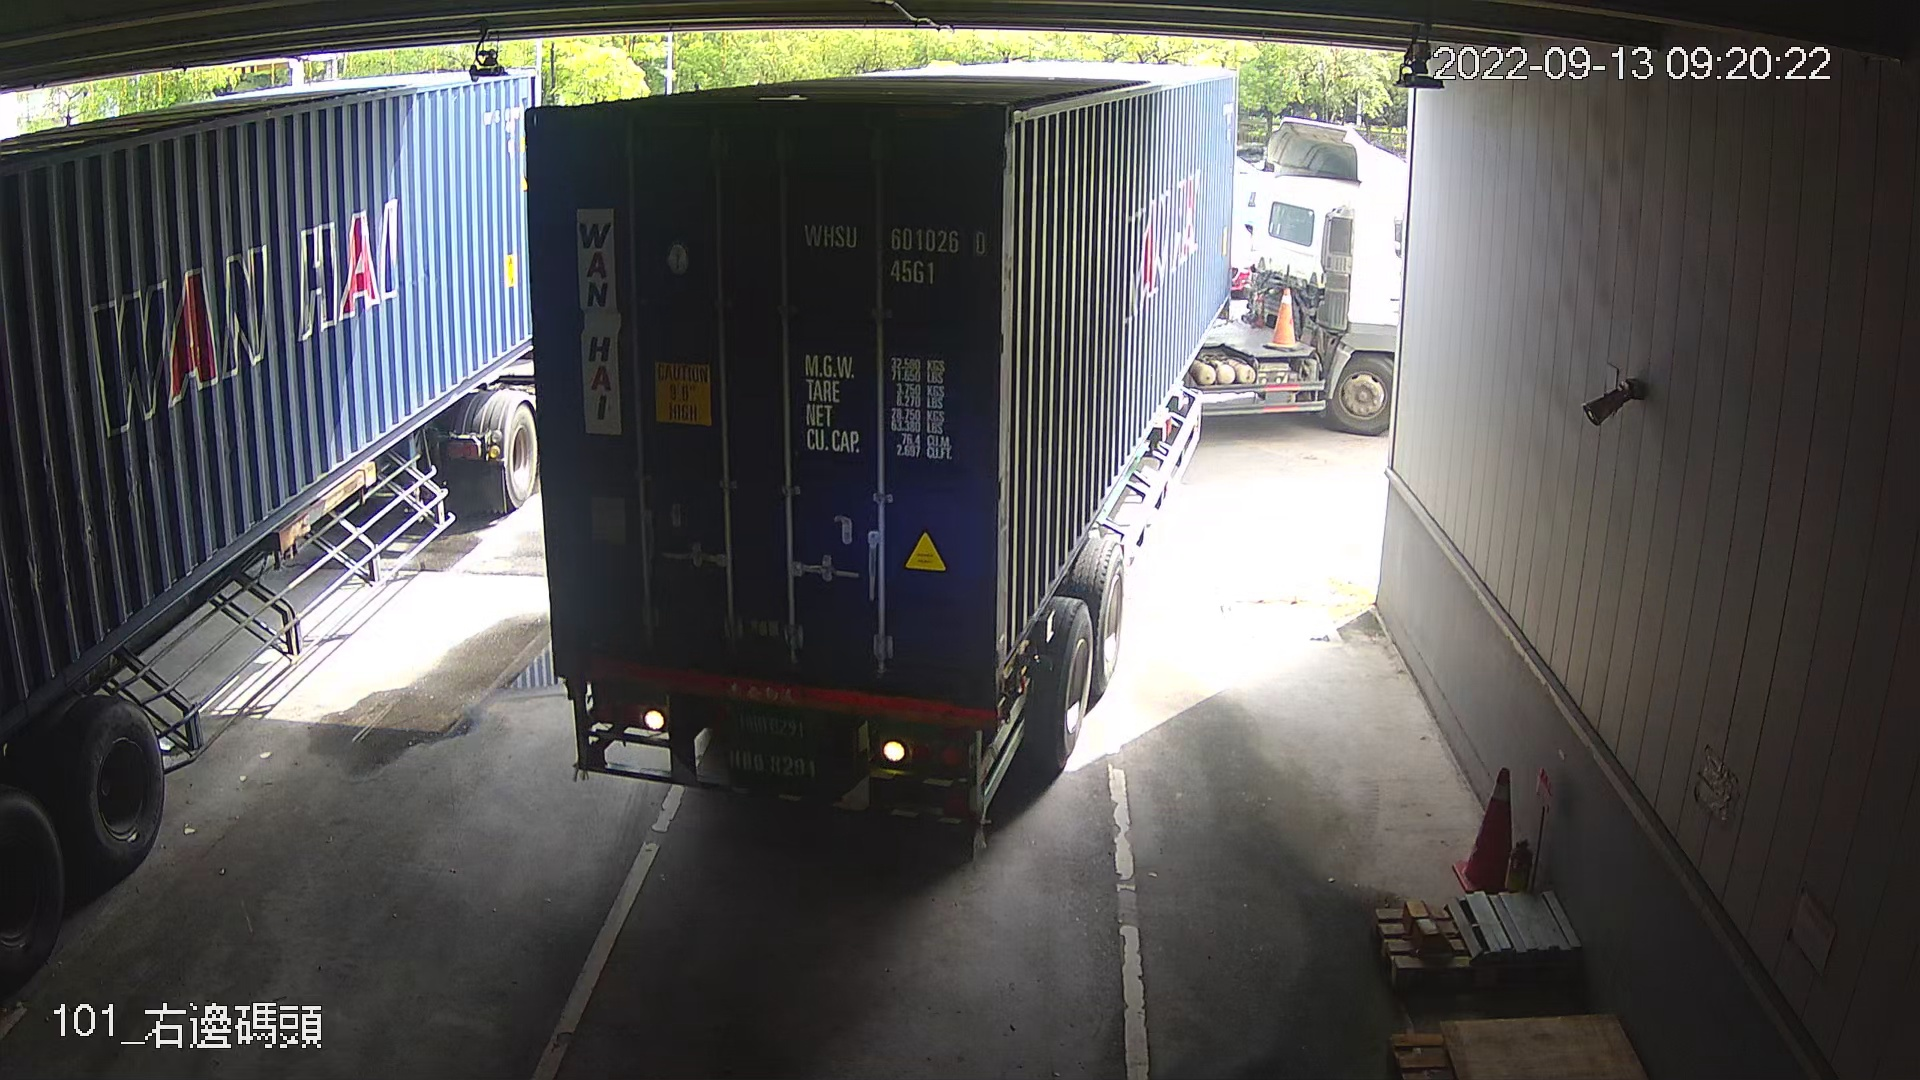container: (793, 211, 994, 291)
